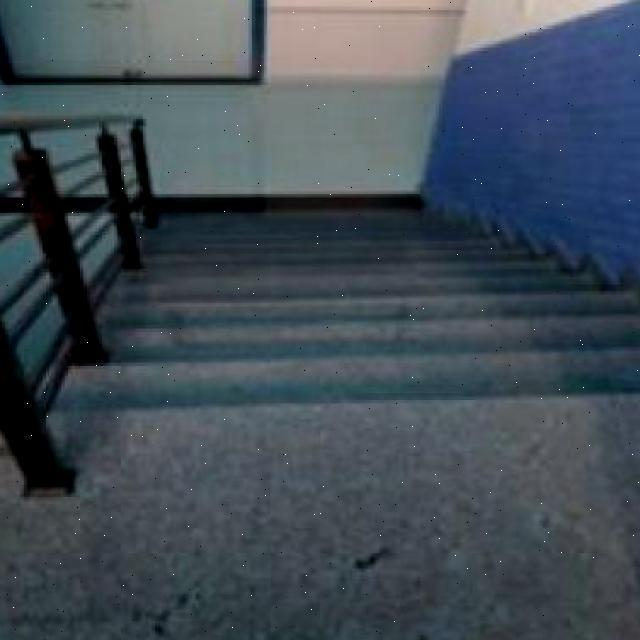stair: (106, 272, 604, 494)
